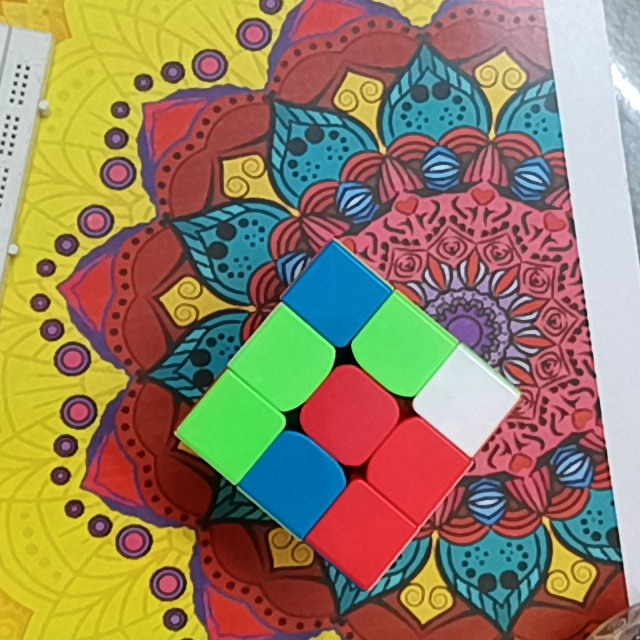tile: (321, 387, 378, 443), (389, 439, 445, 494), (259, 335, 313, 392), (334, 509, 389, 563), (205, 400, 258, 456), (440, 374, 493, 428), (311, 270, 363, 324), (376, 324, 428, 377), (269, 457, 319, 508)
